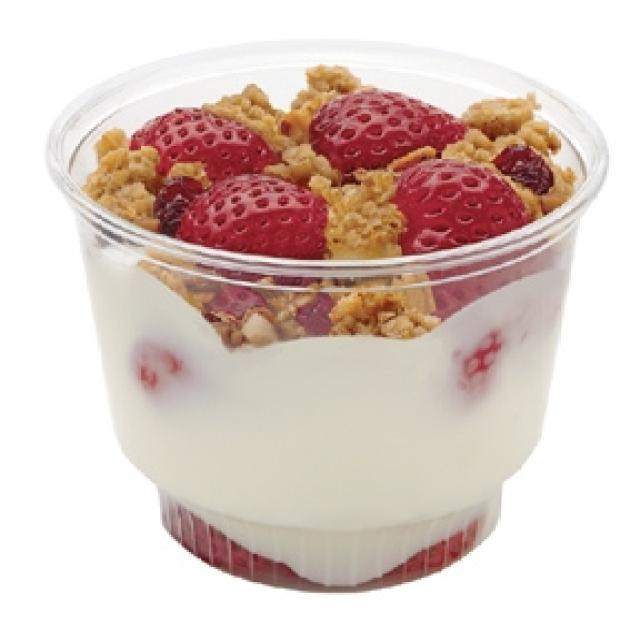蛋糕甜品: (20, 30, 616, 614)
